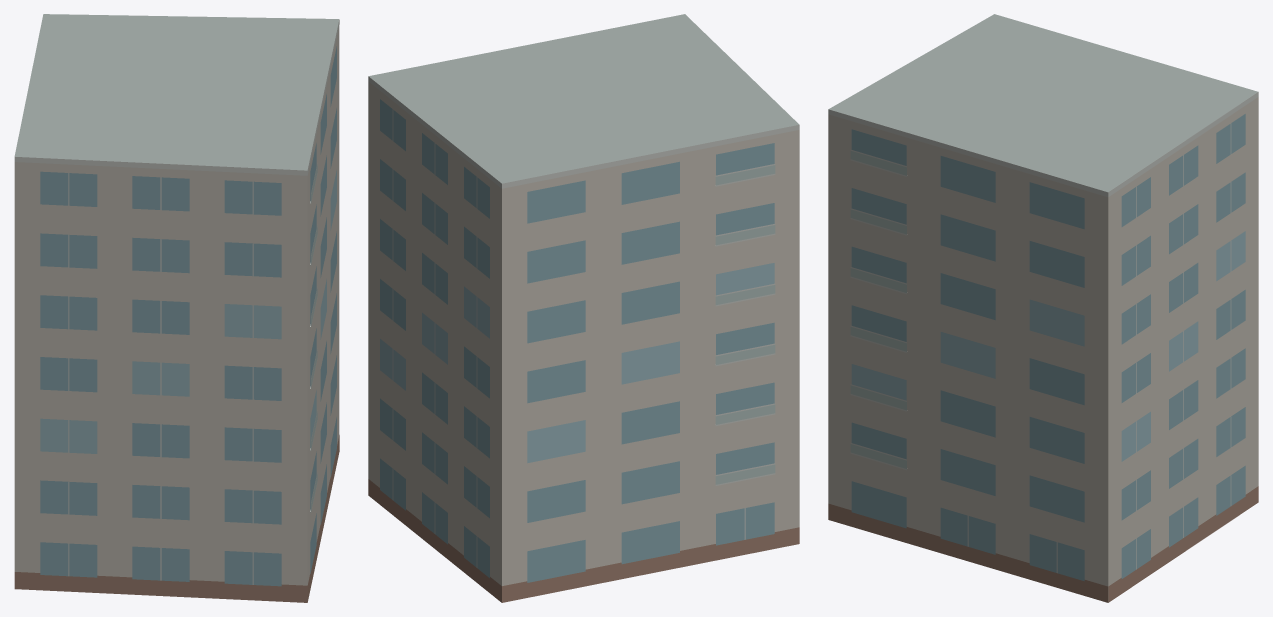
Rendered from survey-upis-33043229.glb.
3 renders of one model, left to right at view 1: azimuth 30°, elevation 25°; view 2: azimuth 150°, elevation 25°; view 3: azimuth 270°, elevation 25°, orthographic. The views are drawn at different scales.
Parts seen in each view (by area): view 1: survey-upis-33043229.tmp; view 2: survey-upis-33043229.tmp; view 3: survey-upis-33043229.tmp.
Part boxes in pixels (x1,y1,x2,y2): survey-upis-33043229.tmp: (14, 14, 339, 602); survey-upis-33043229.tmp: (368, 14, 799, 602); survey-upis-33043229.tmp: (828, 14, 1258, 602).
Bounding box in the file's own units: 18.83 × 20.2 × 19.19.
